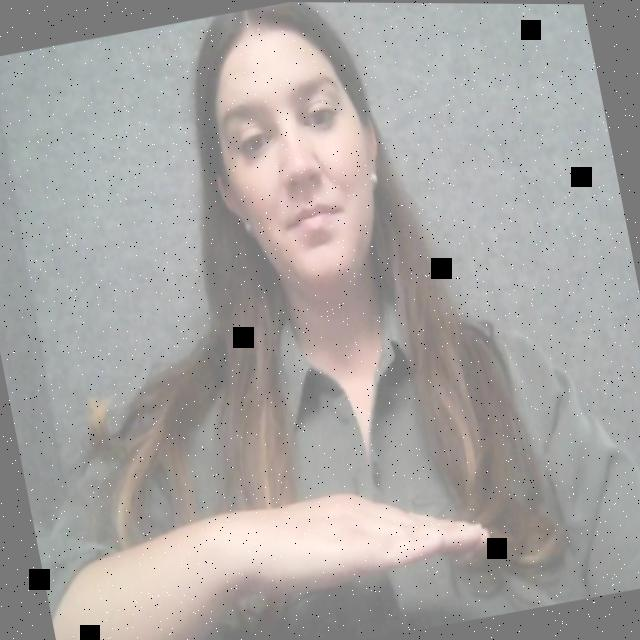Paper: (188, 460, 497, 620)
